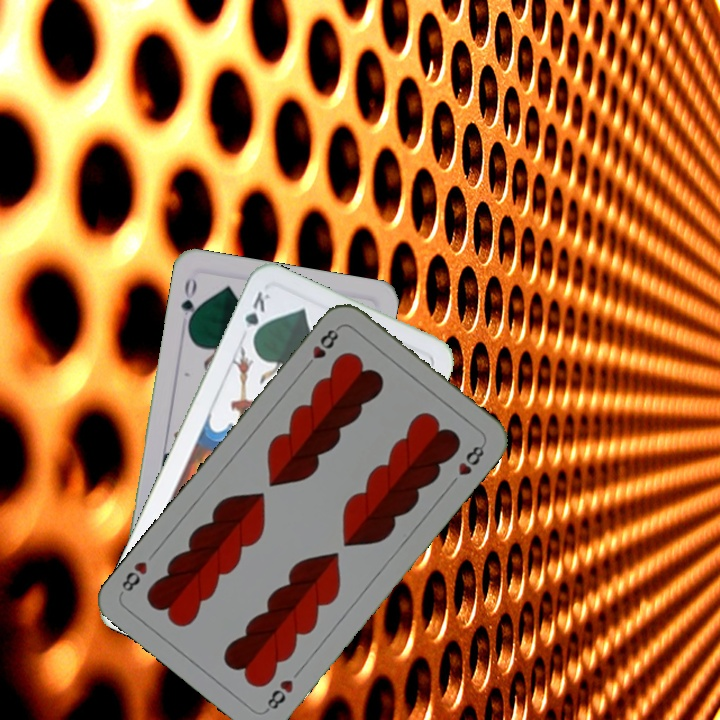GK: (240, 287, 274, 344)
GO: (176, 274, 202, 332)
H8: (300, 323, 343, 372), (261, 675, 296, 715)
